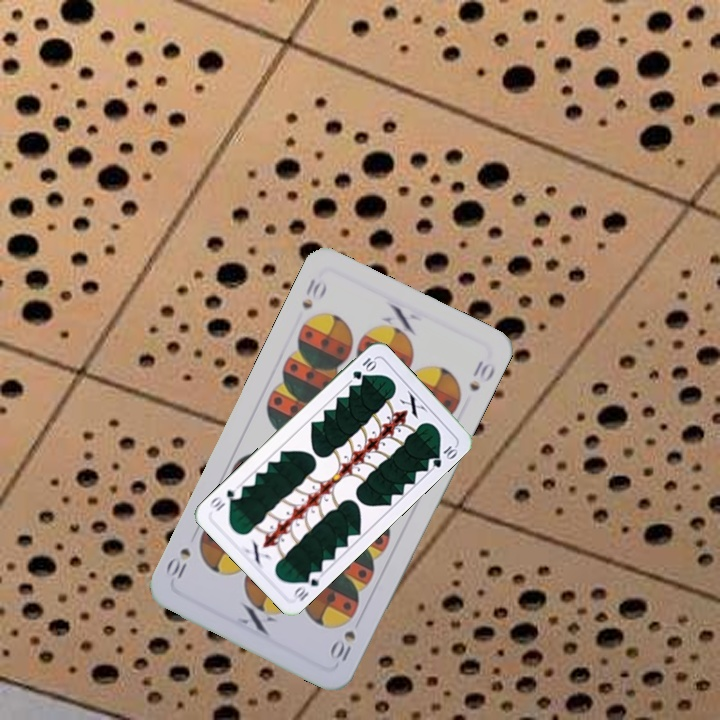G10: (290, 567, 325, 604), (348, 353, 379, 382)
S10: (298, 274, 330, 312), (328, 626, 359, 664)
